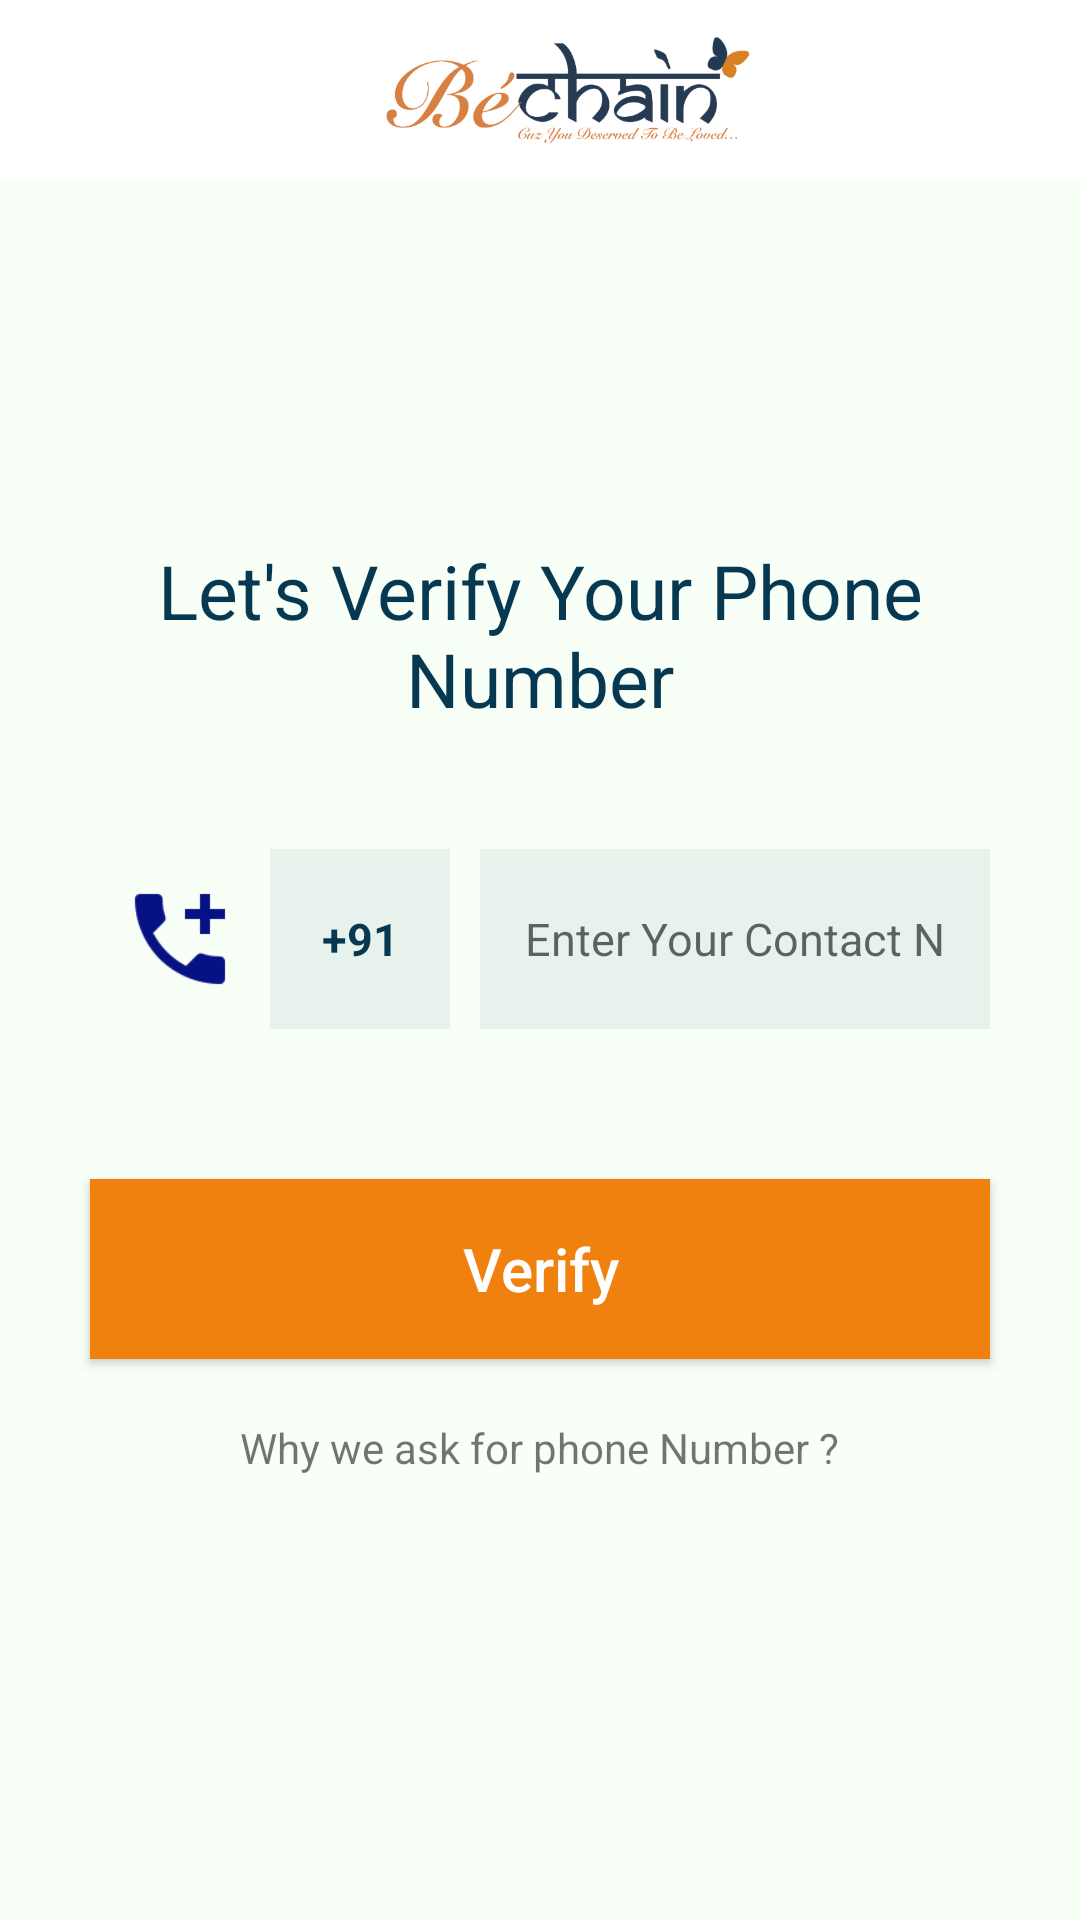

Point at icon controls on the screen. Image size 1080x1920, points as [x,y].
add phone: [180,939]
